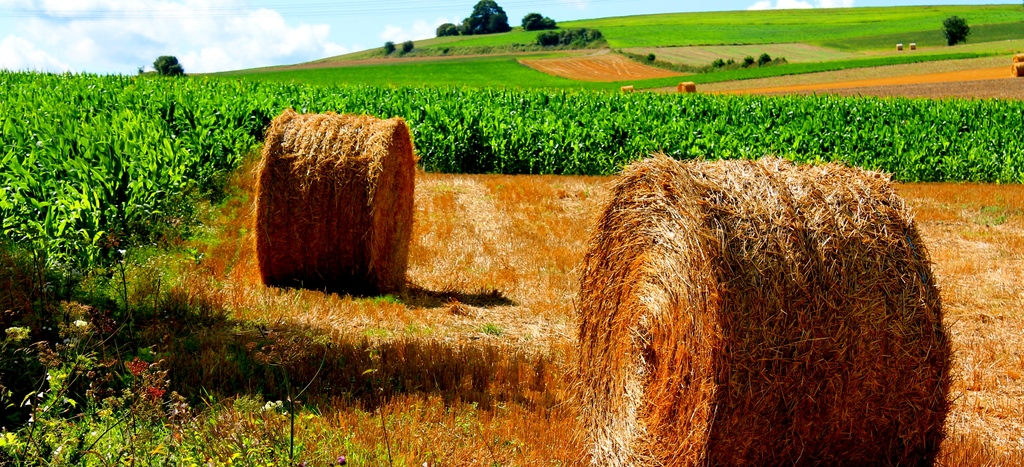Tree: (435, 0, 512, 38), (939, 12, 968, 48), (151, 51, 185, 75)
